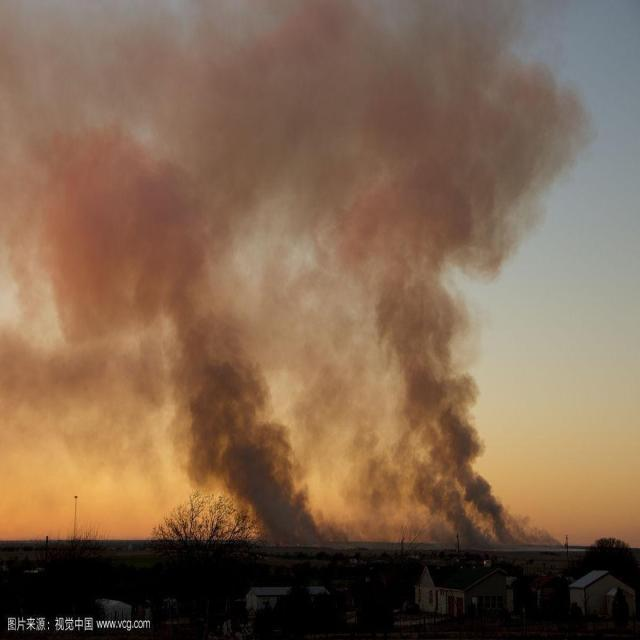Smoke: (0, 0, 599, 547)
